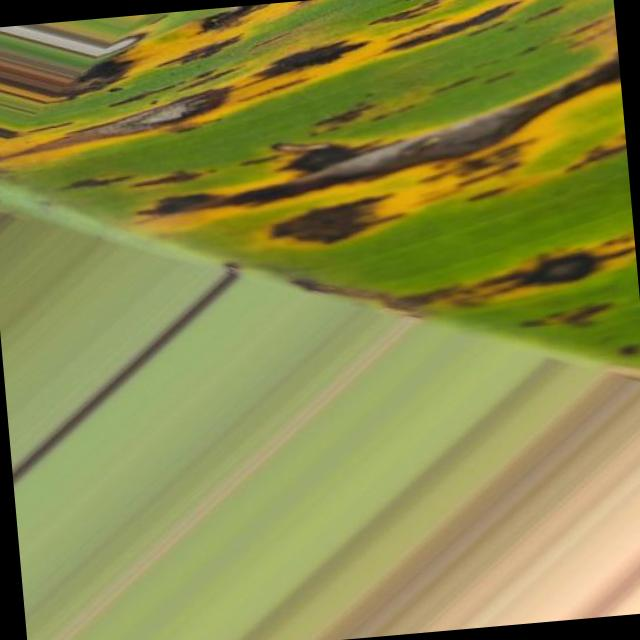Banana_Black_Sigatoka: (44, 0, 629, 246), (377, 197, 640, 384)
